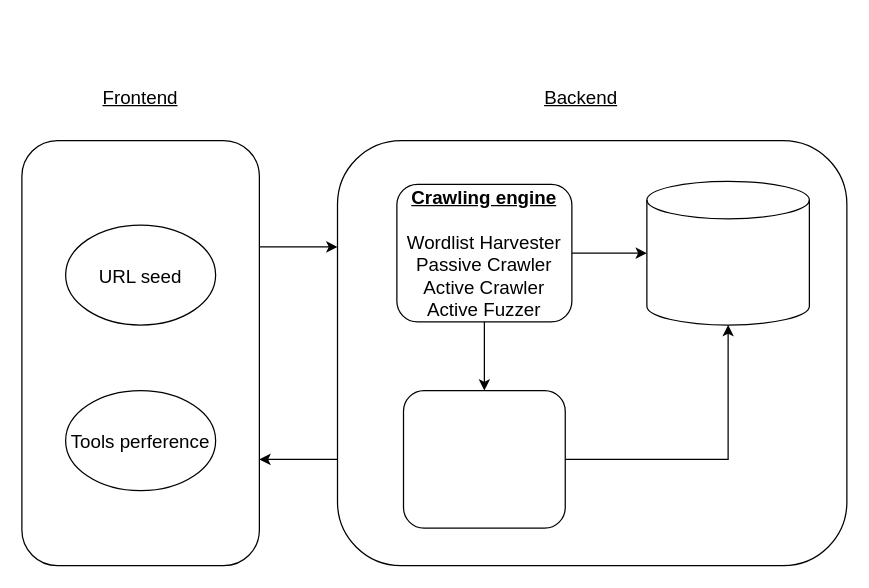
Image size: 869x588. Some labels were removed from this diagram. Here are the shapes that lost their labels. From the top down, the centre of each, then its label:
At point (727, 252): "MySQL Database".
At point (483, 458): "Scanning engine Independent Batch Scanner Dependent Scanner".
